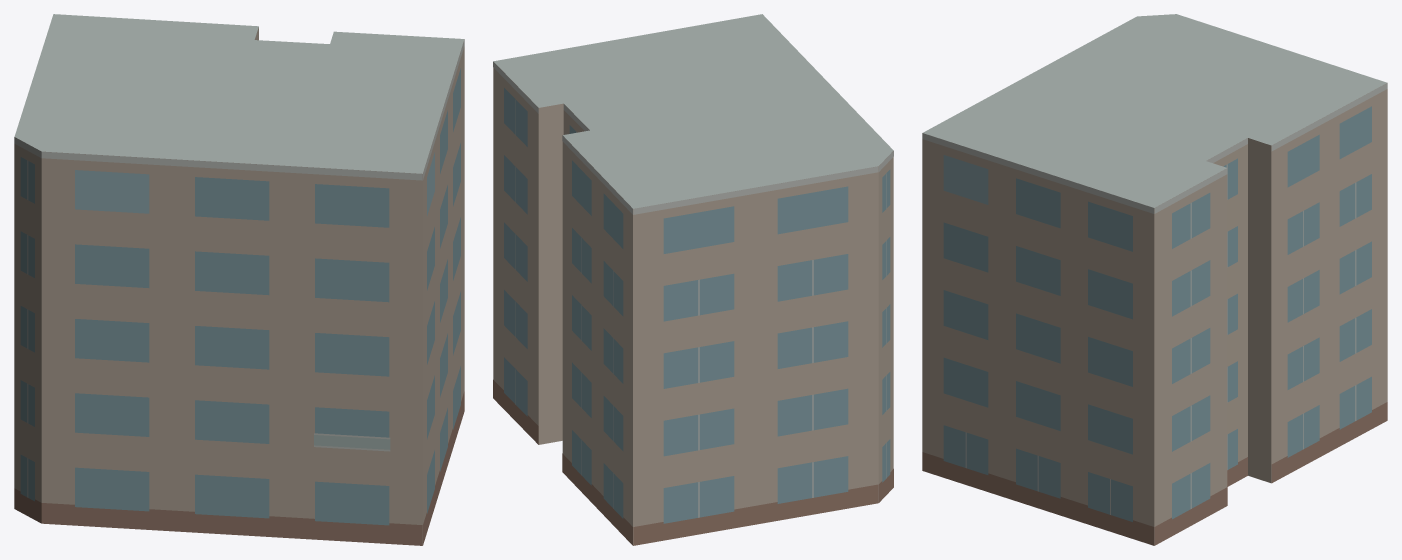
Rendered from survey-upis-32865654.glb.
3 views of the same model, side by side, from view 1: azimuth 30°, elevation 25°; view 2: azimuth 150°, elevation 25°; view 3: azimuth 270°, elevation 25° (orthographic). The views are drawn at different scales.
Visible parts, largest first — view 1: survey-upis-32865654.tmp; view 2: survey-upis-32865654.tmp; view 3: survey-upis-32865654.tmp.
Part boxes in pixels (x1,y1,x2,y2): survey-upis-32865654.tmp: (14,14,464,545); survey-upis-32865654.tmp: (493,14,893,545); survey-upis-32865654.tmp: (922,14,1387,545).
Bounding box in the file's own units: 16.63 × 13.5 × 16.85.
